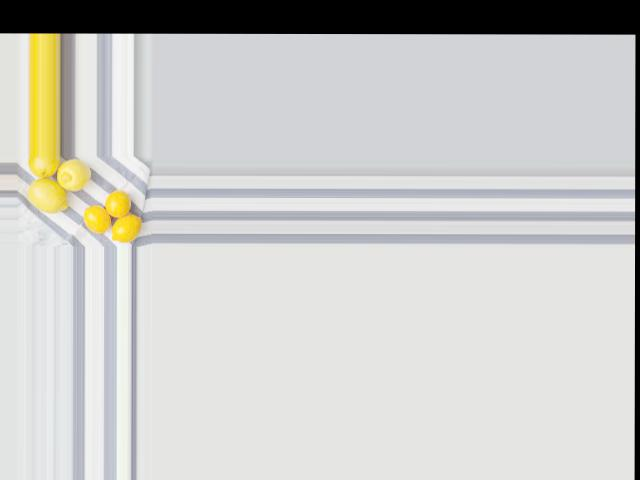lemon: (110, 214, 142, 242)
